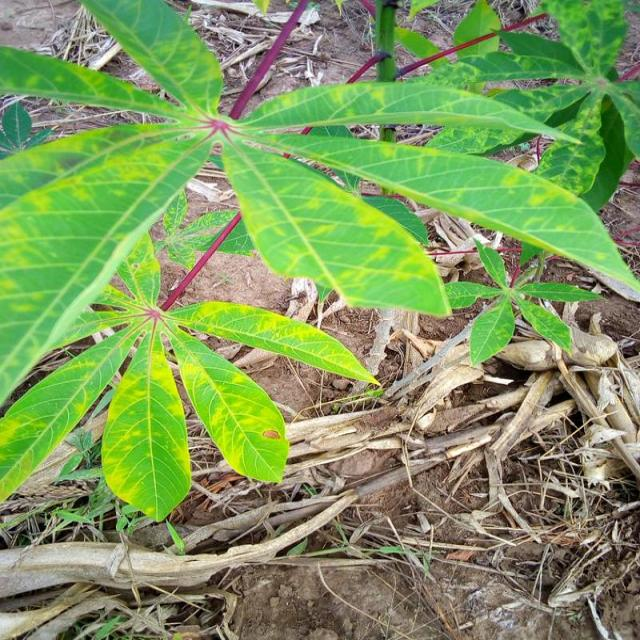cassava leaf: (0, 0, 638, 530), (266, 132, 638, 302), (220, 131, 454, 319), (100, 324, 191, 523)
